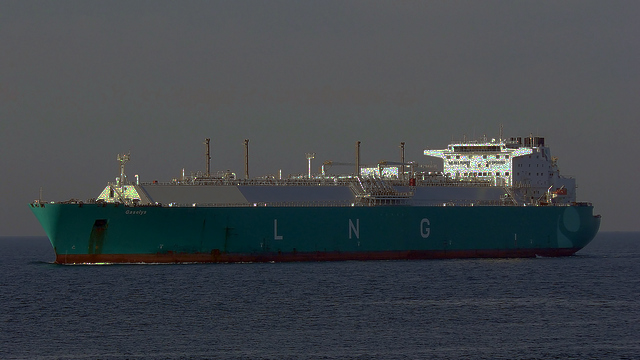LNG_ship: (27, 121, 603, 258)
